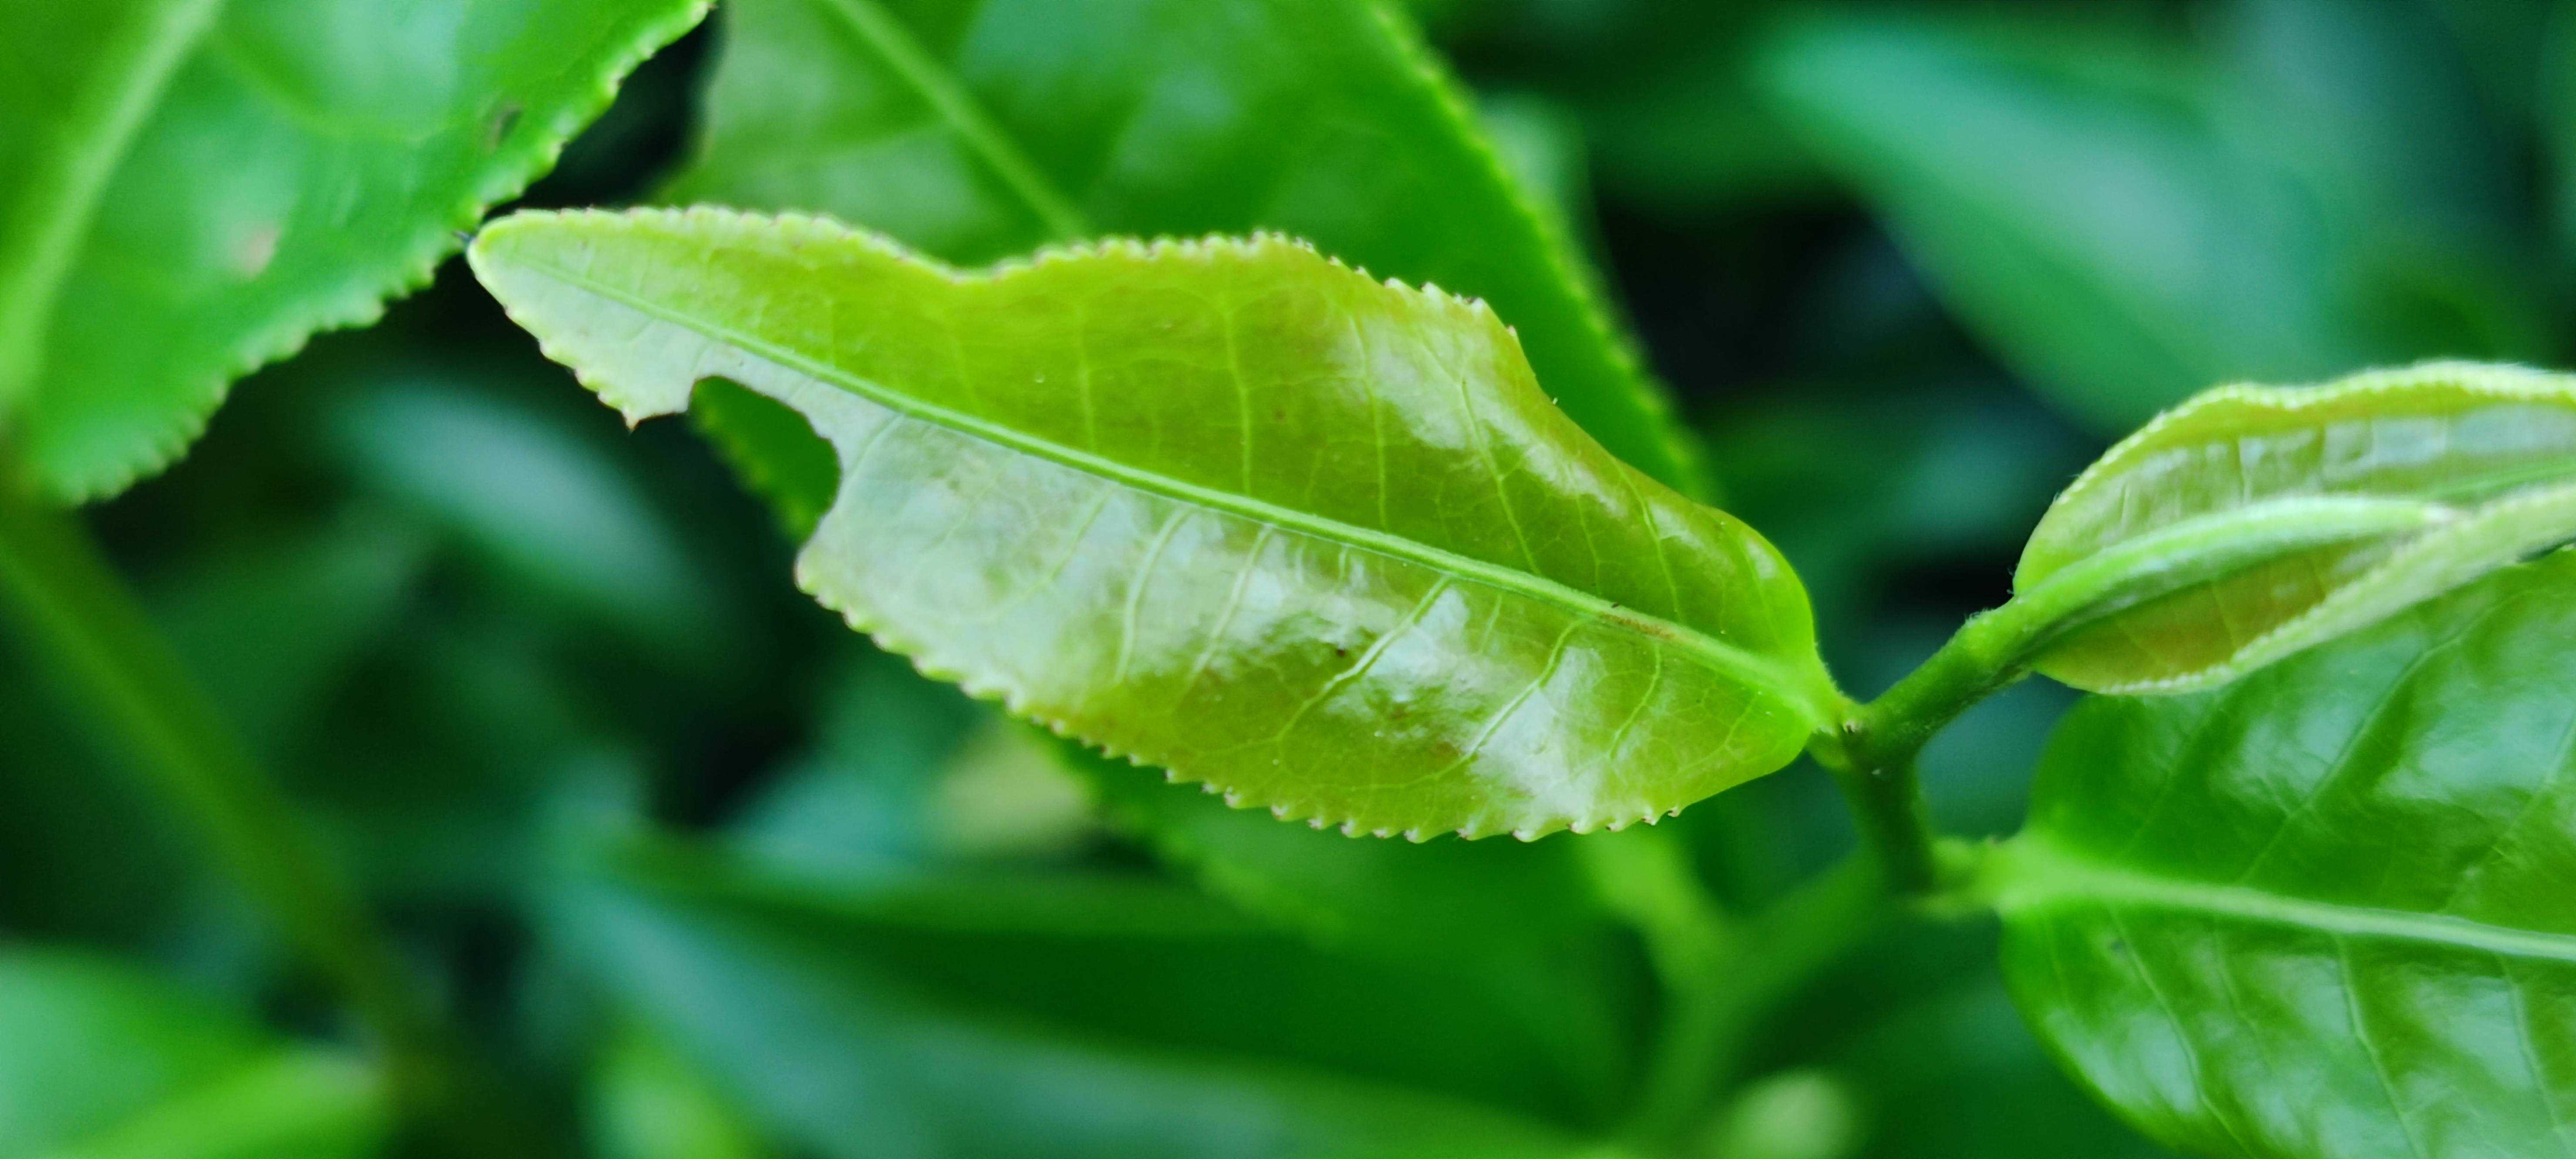chihuo_low: (462, 202, 1824, 852)
tanju_low: (2009, 353, 2574, 693)
